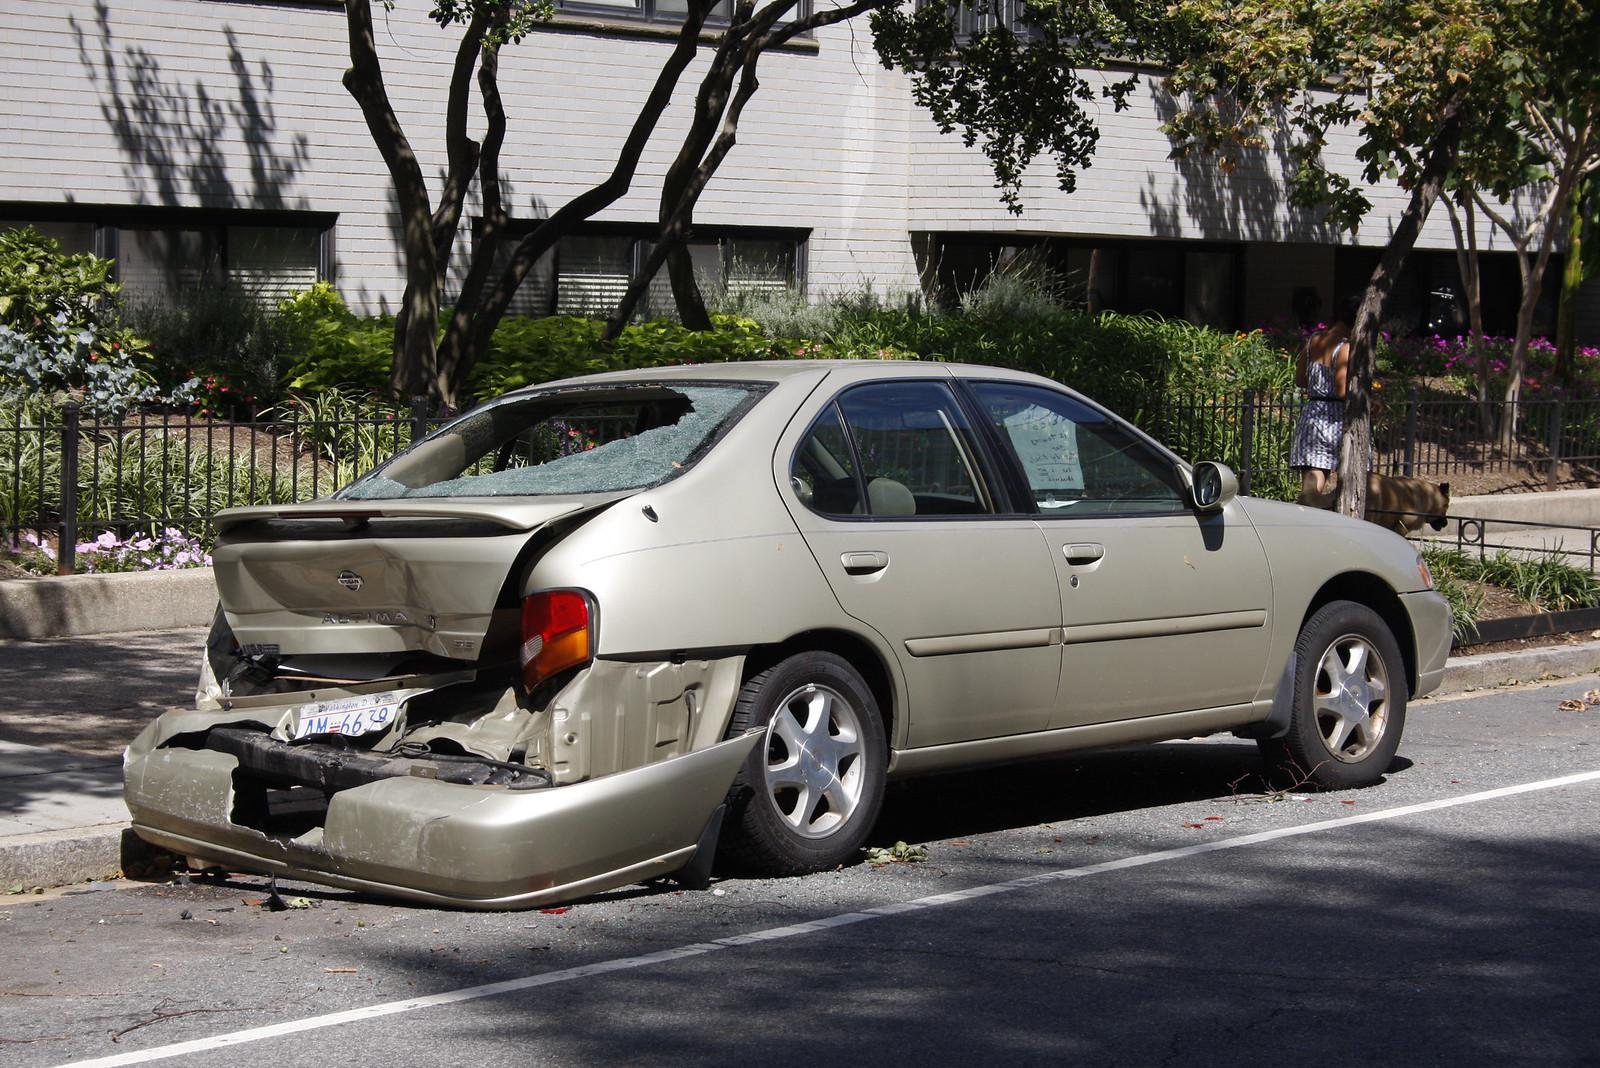Rear-windscreen-Damage: (368, 364, 727, 513)
boot-dent: (172, 510, 560, 689)
rear-bumper-dent: (122, 642, 597, 893)
